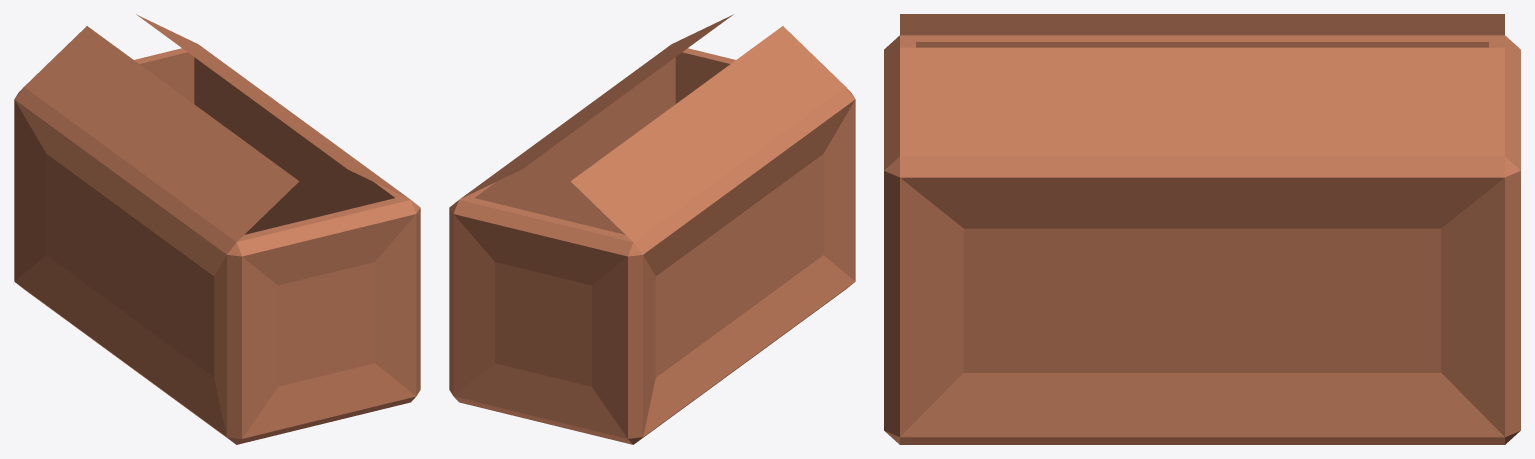
The model's file is box-large-open.obj.
The picture shows the model from 3 angles, left to right: view 1: azimuth 30°, elevation 25°; view 2: azimuth 150°, elevation 25°; view 3: azimuth 270°, elevation 25°; orthographic projection. The views are drawn at different scales.
Bounding box in the file's own units: 0.25 × 0.3063 × 0.5.
